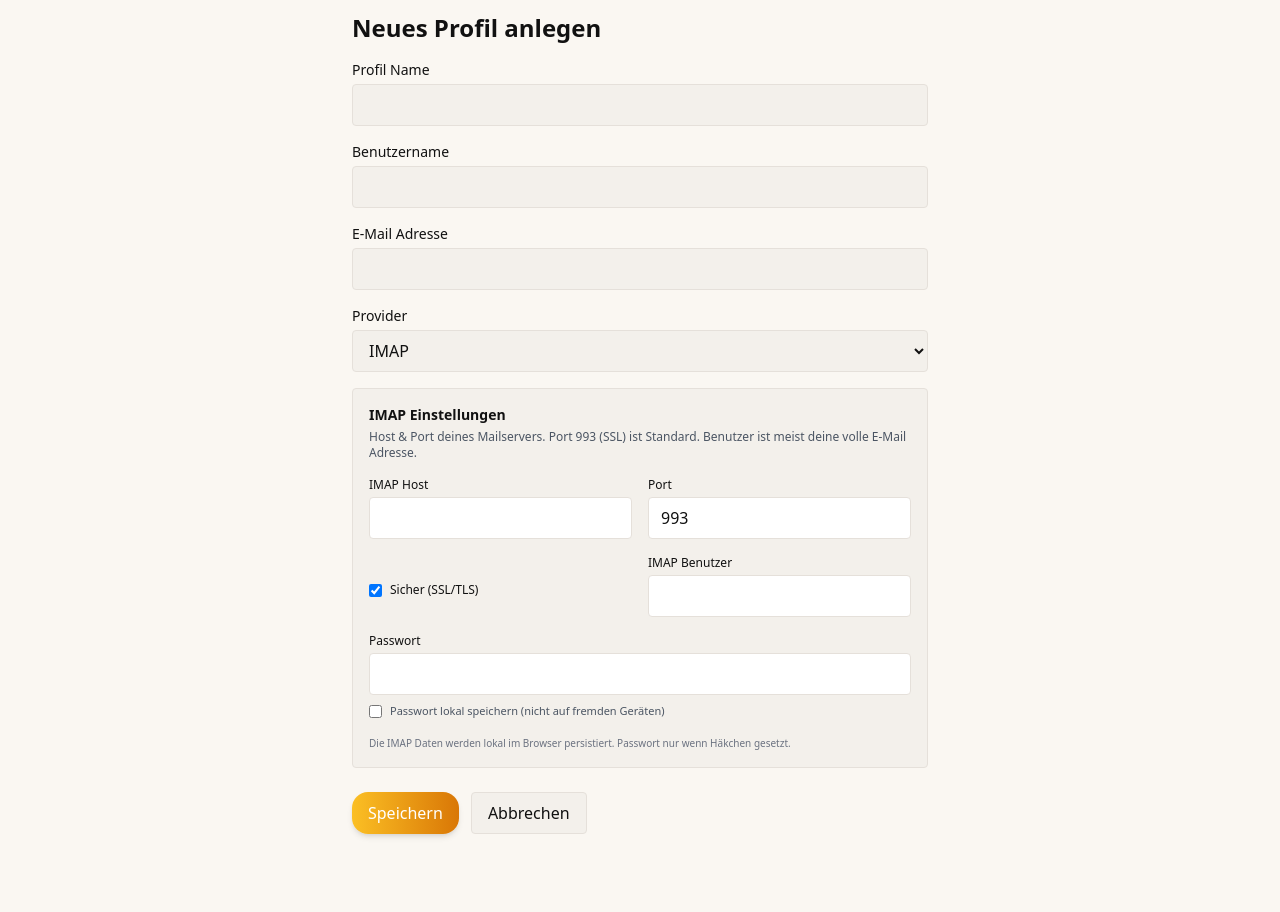
Test: Profile setup flow › cancel returns without creating profile
The width and height of the screenshot is (1280, 912).
What coordinates should you click on to do the following:
click the button "Abbrechen"
I would click on:
 (529, 812)
Its box is [471,792,587,834].
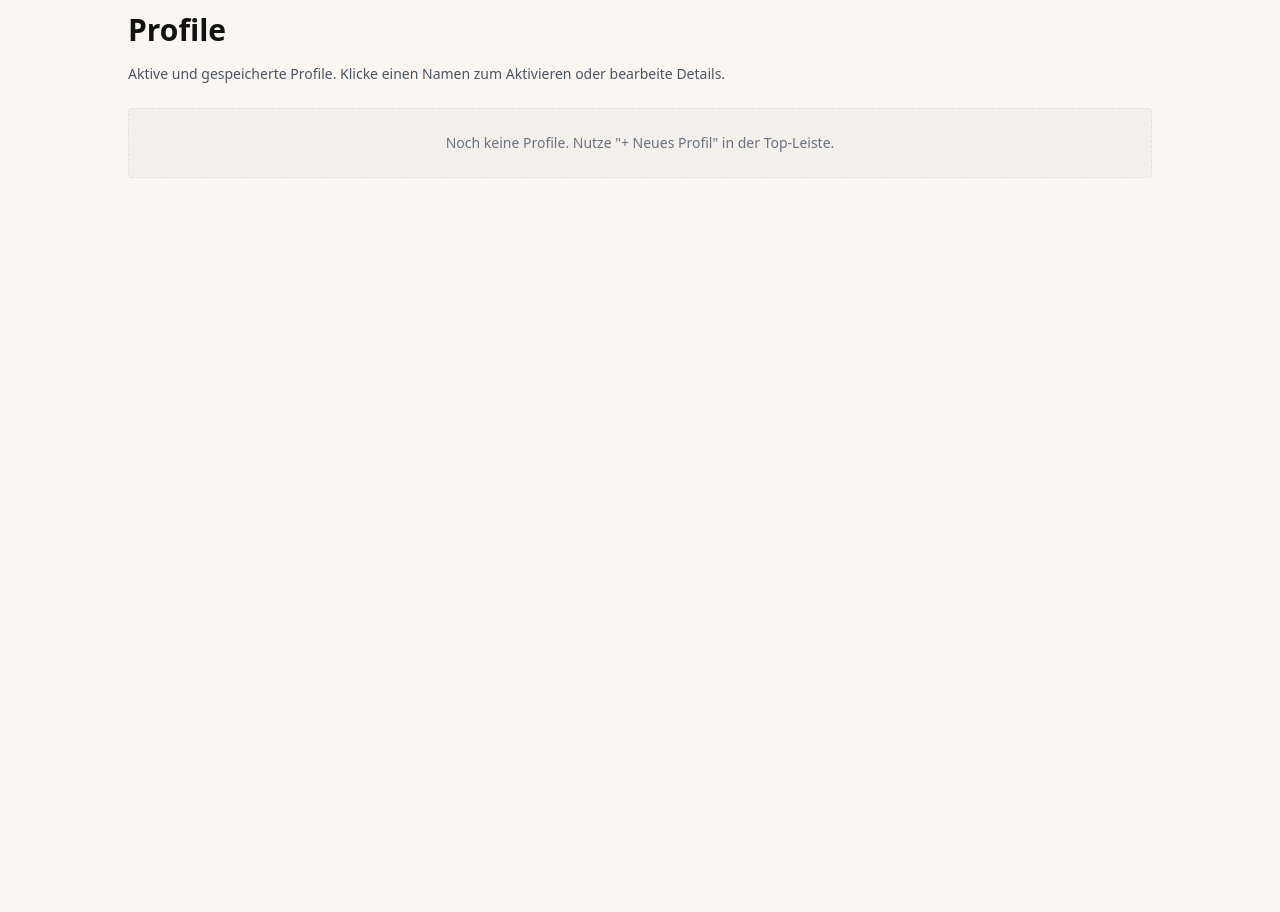
Result: the heading "Neues Profil anlegen" is gone
